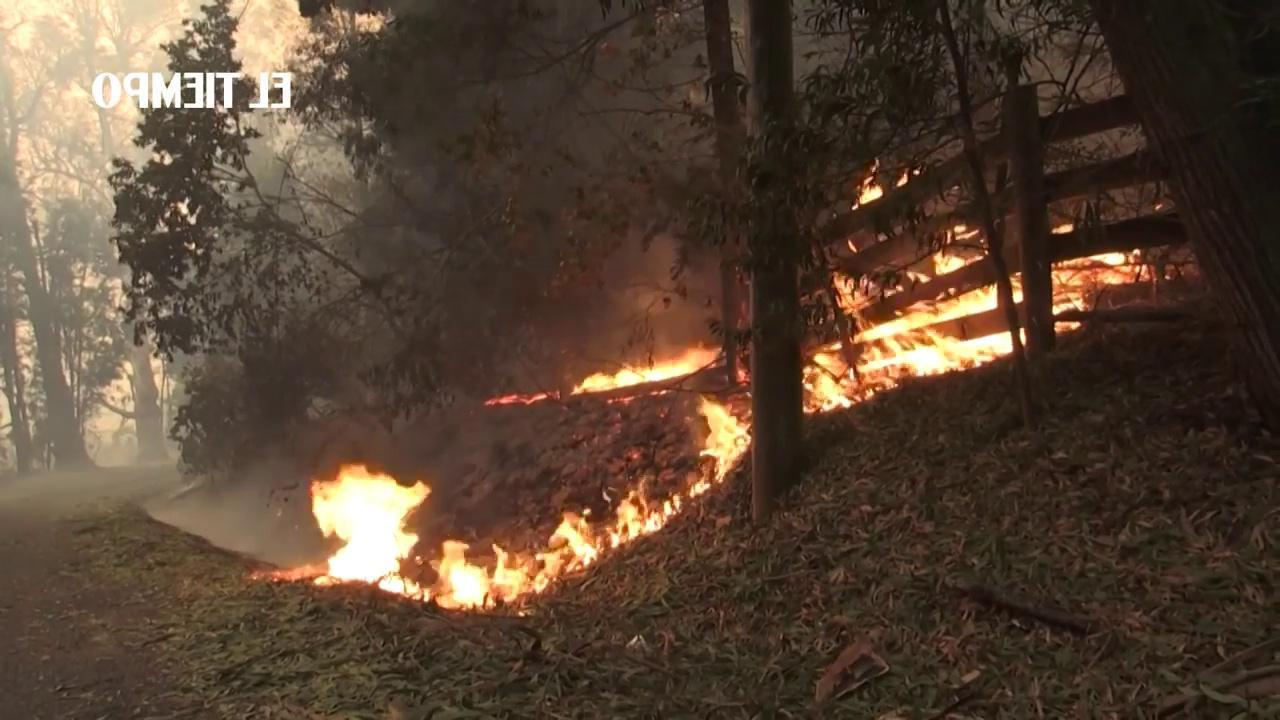Fire: (300, 459, 594, 613), (803, 218, 1029, 415), (605, 403, 750, 548), (1053, 247, 1152, 332), (575, 345, 720, 393), (849, 153, 887, 210), (483, 384, 556, 411)
